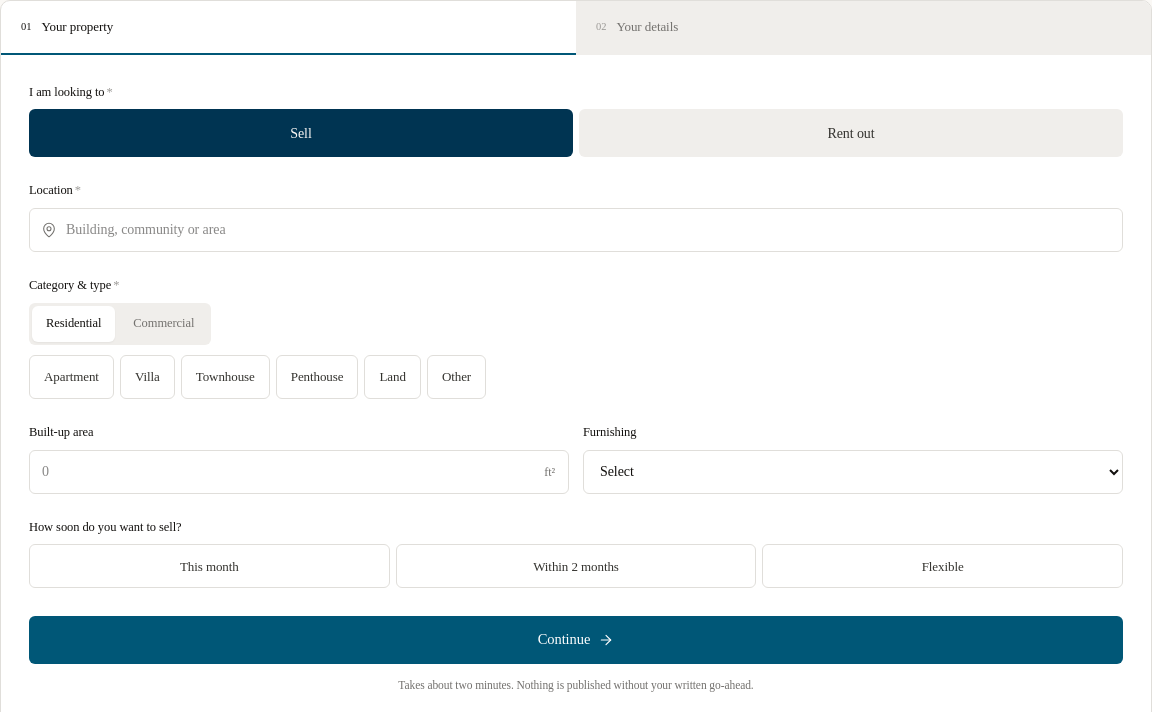
Test: ListPropertyForm › asks for bedrooms on an apartment but not on land
Click the button "Apartment".
click(71, 377)  # box [29,355,114,399]
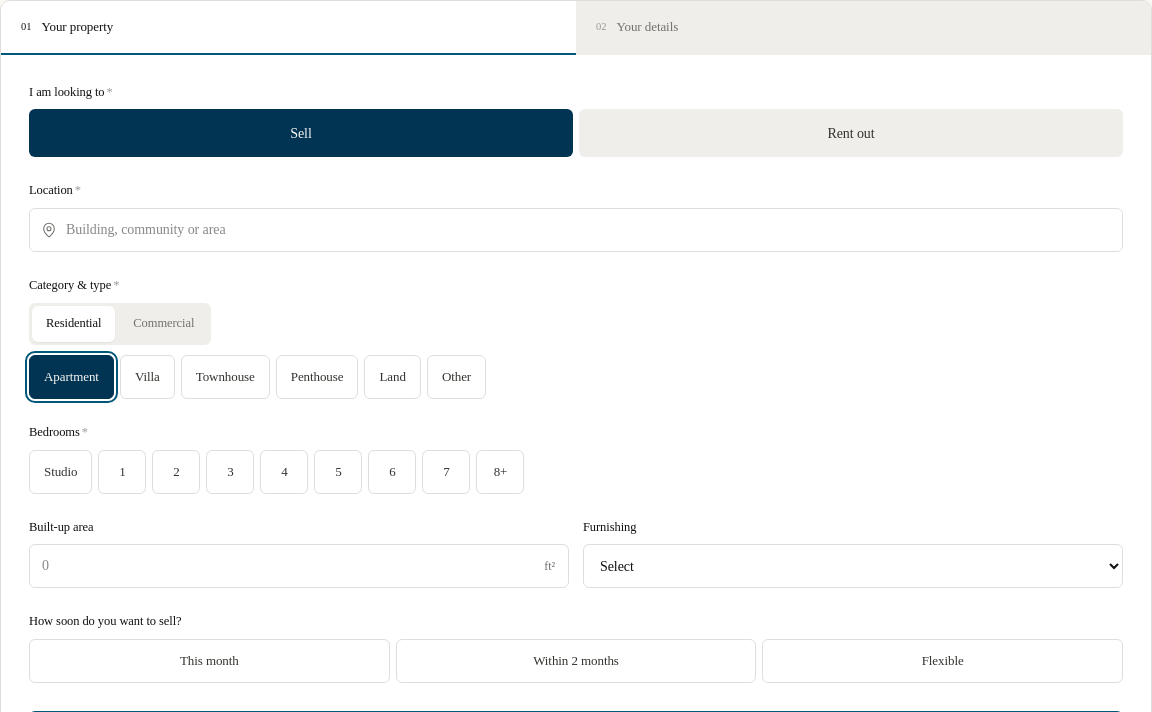
expect the text "Bedrooms*" is shown: met, box [29,425,88,439]
Click the button "Land".
click(393, 377)  # box [364,355,421,399]
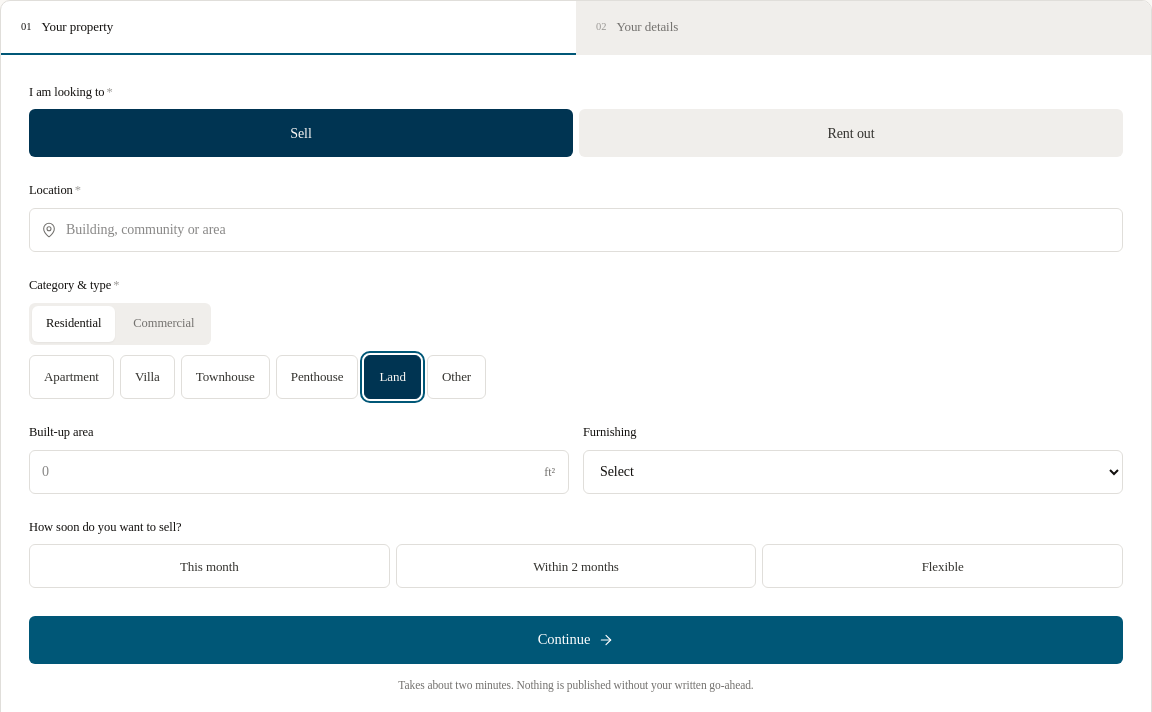
expect the text "Bedrooms" is gone: met
